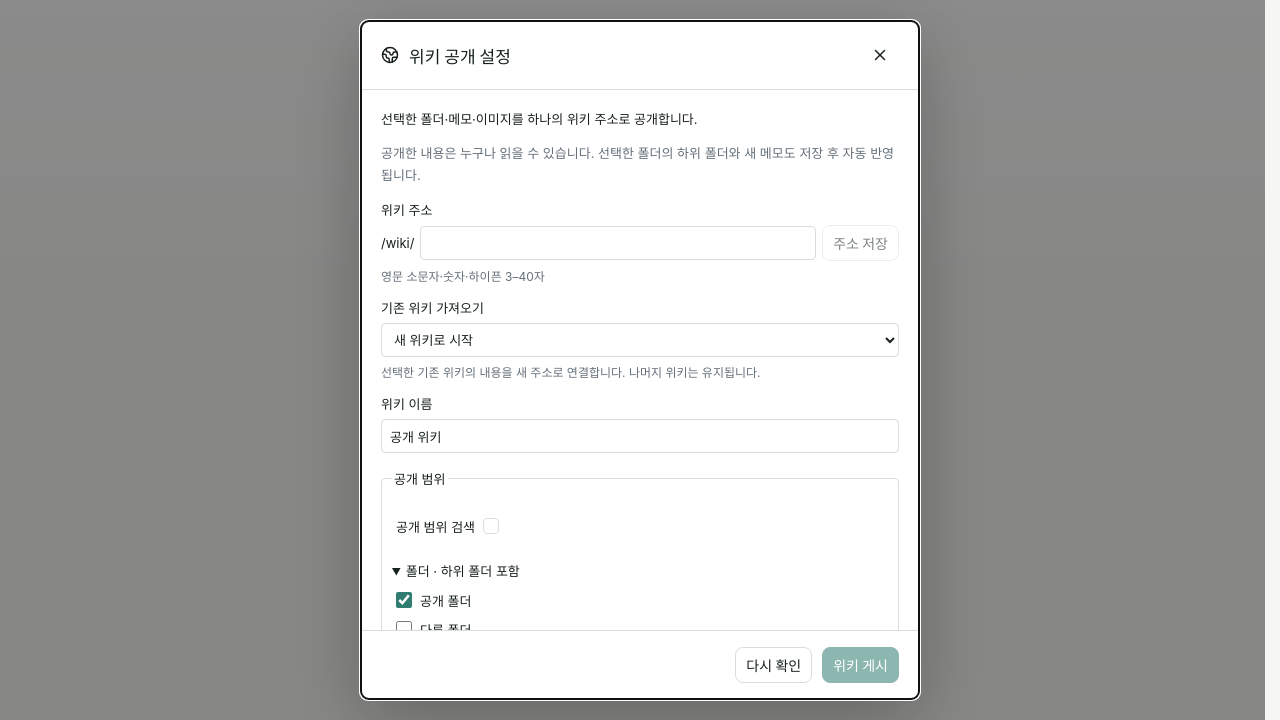
Test: legacy wiki adoption › loads the selected legacy grants and latest revision before adopting its existing snapshot
The image size is (1280, 720).
Select "이전 위키 A" in the dropdown labelled "기존 위키 가져오기 선택한 기존 위키의 내용을 새 주소로 연결합니다. 나머지 위키는 유지됩니다." at (640, 340), box [381,323,899,357]
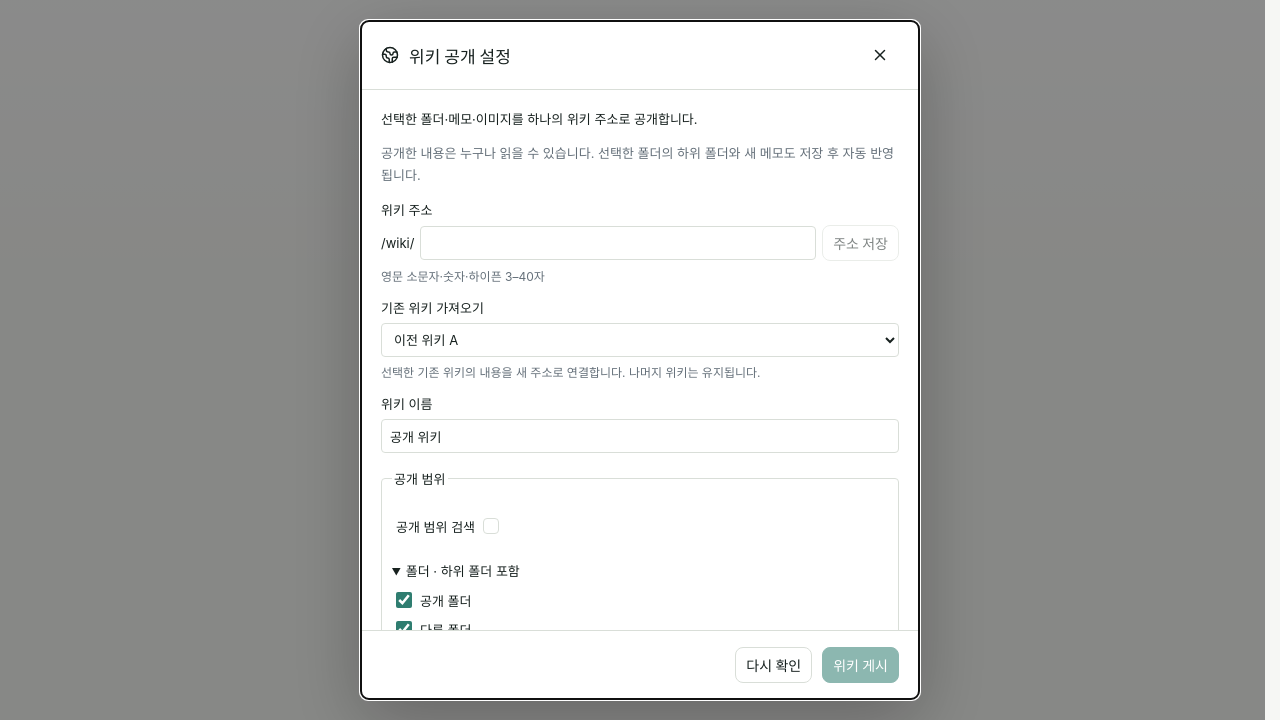
Type "adopted-notes" into the field labelled "위키 주소" at (618, 243), box [420,226,816,260]
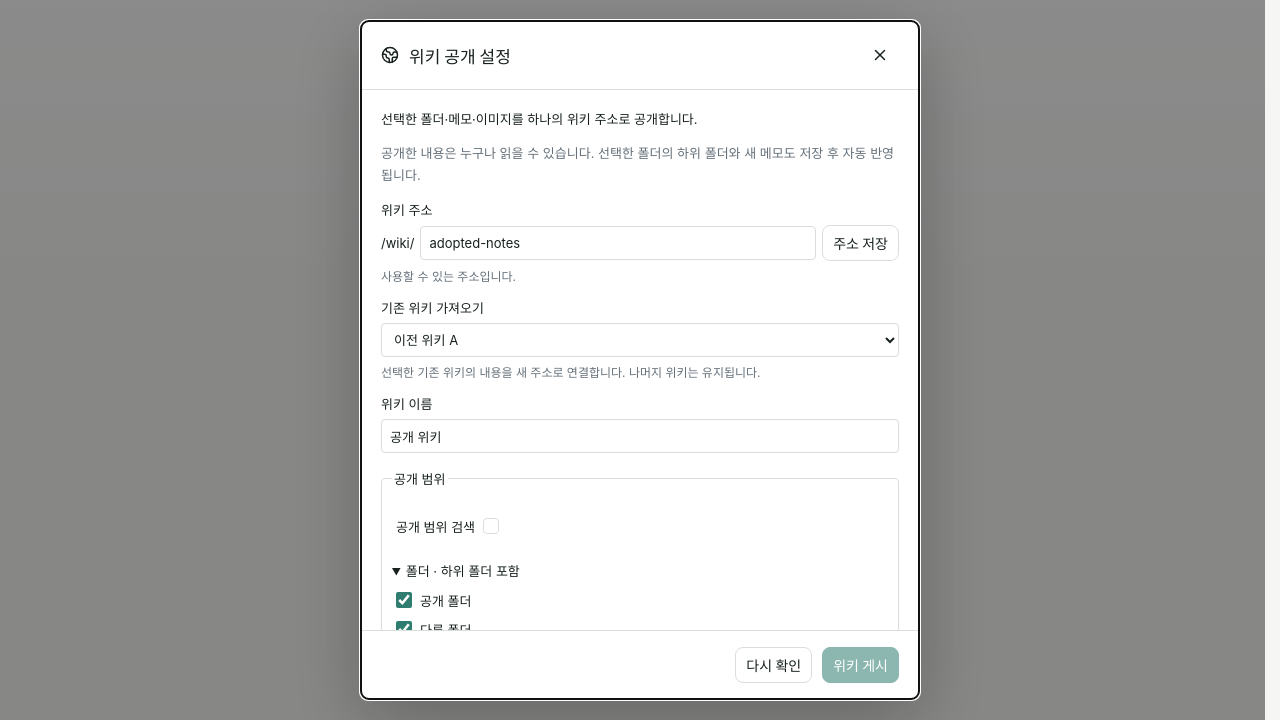
Result: the text "사용할 수 있는 주소입니다." is shown at [381,269,516,284]
Click the button "주소 저장" at (861, 243), box [822,225,899,261]
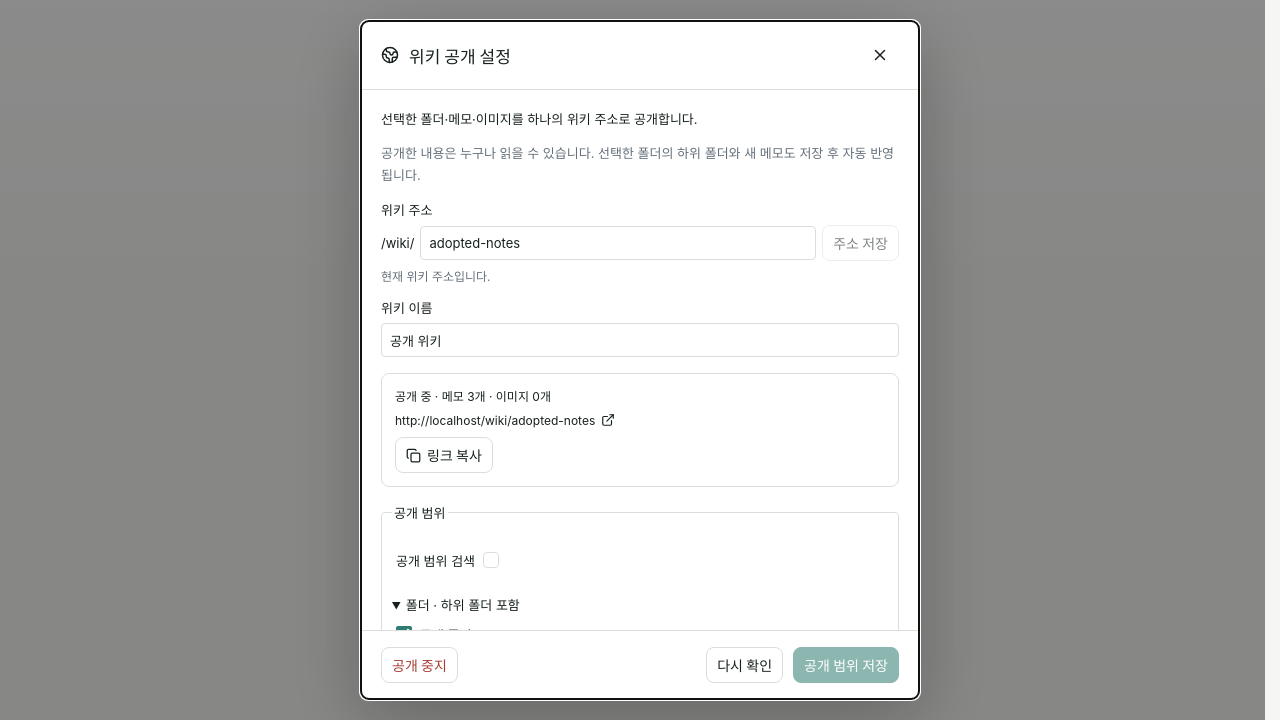
Result: the dropdown is gone
